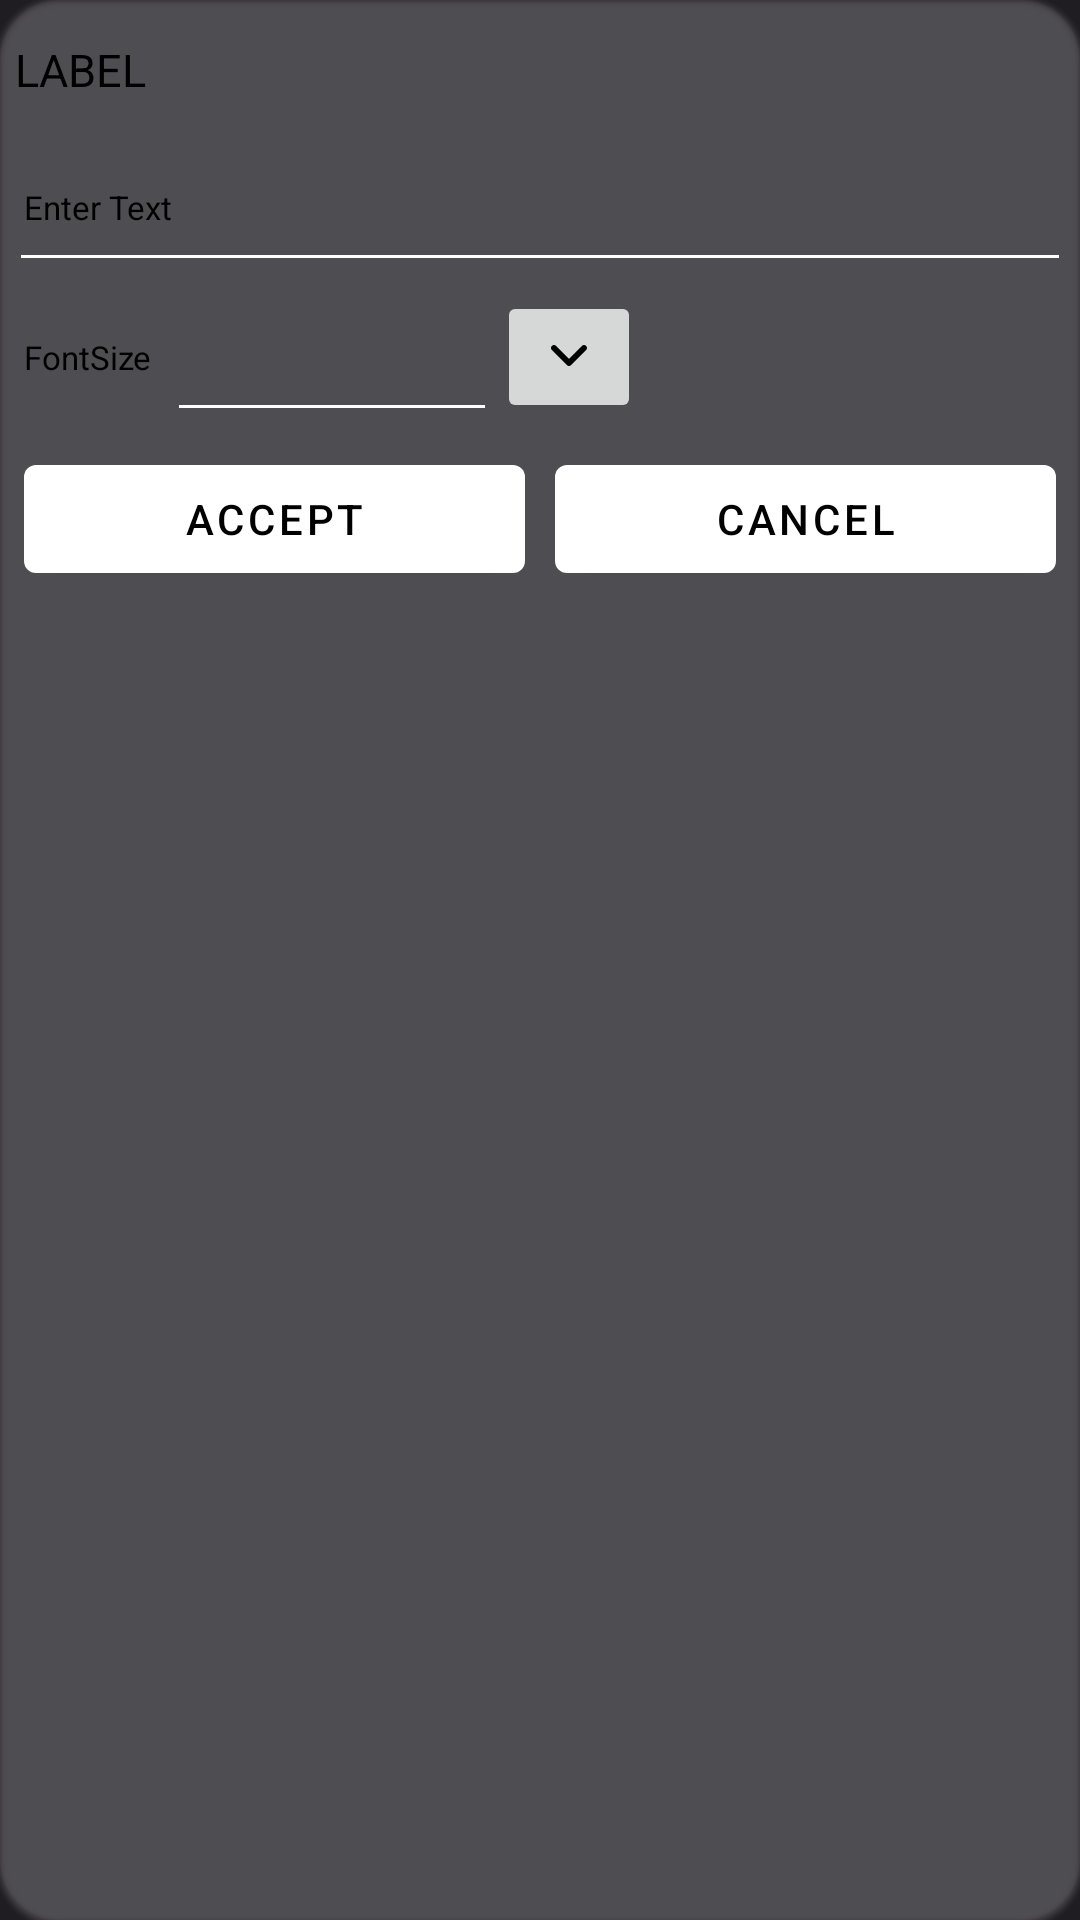

Icon click points for this 1080x1920 phone screenshot, format (x=x, y=y):
dropdown: (x=569, y=357)
